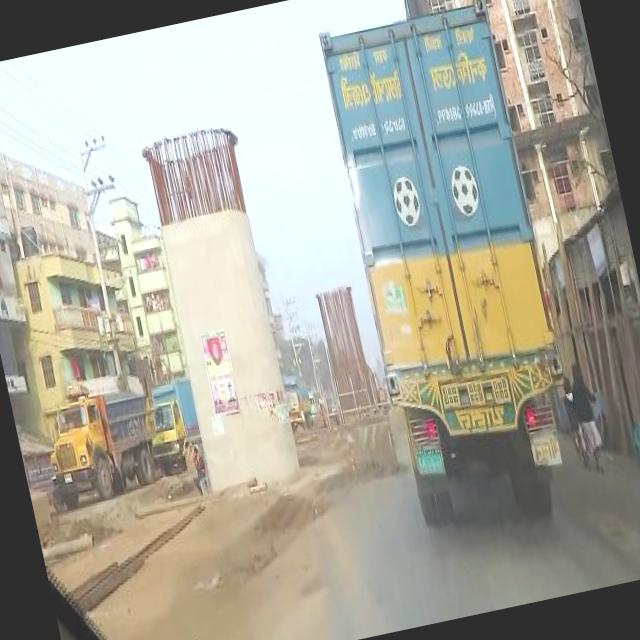truck: (310, 0, 594, 538), (40, 388, 164, 510), (143, 372, 205, 464), (282, 370, 316, 426)
